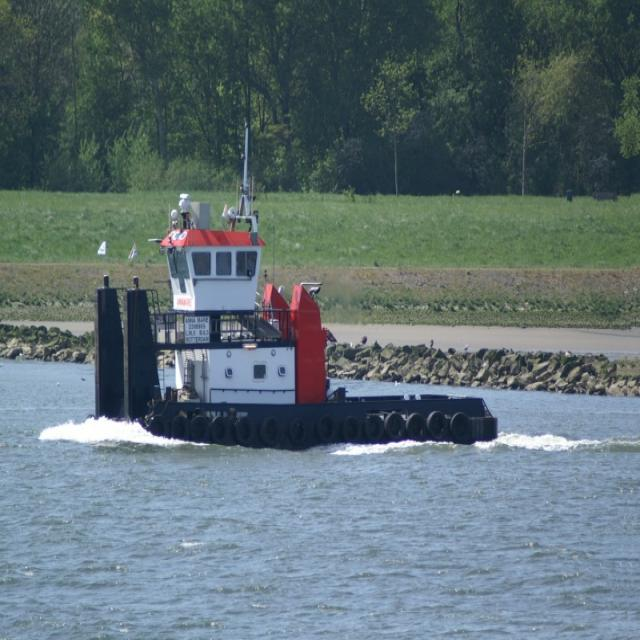tugboat: (91, 173, 508, 467)
